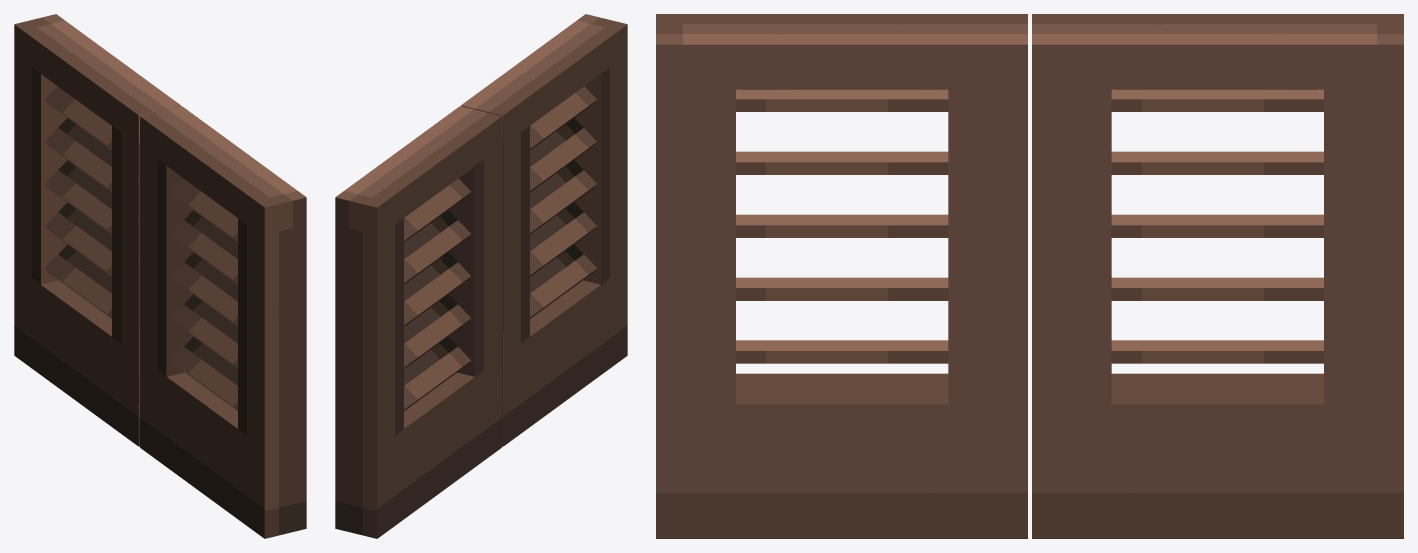
Rendered from closed_shutter_291x01.obj.
3 renders of one model, left to right at view 1: azimuth 30°, elevation 25°; view 2: azimuth 150°, elevation 25°; view 3: azimuth 270°, elevation 25°, orthographic. The views are drawn at different scales.
Parts seen in each view (by area): view 1: Frame.003; view 2: Frame.003; view 3: Frame.003.
Part boxes in pixels (x1=…): Frame.003: x1=14, y1=14, x2=306, y2=538; Frame.003: x1=335, y1=14, x2=627, y2=538; Frame.003: x1=656, y1=14, x2=1403, y2=538.
Size of the model in its own units: 0.375 by 2.82 by 3.87.
